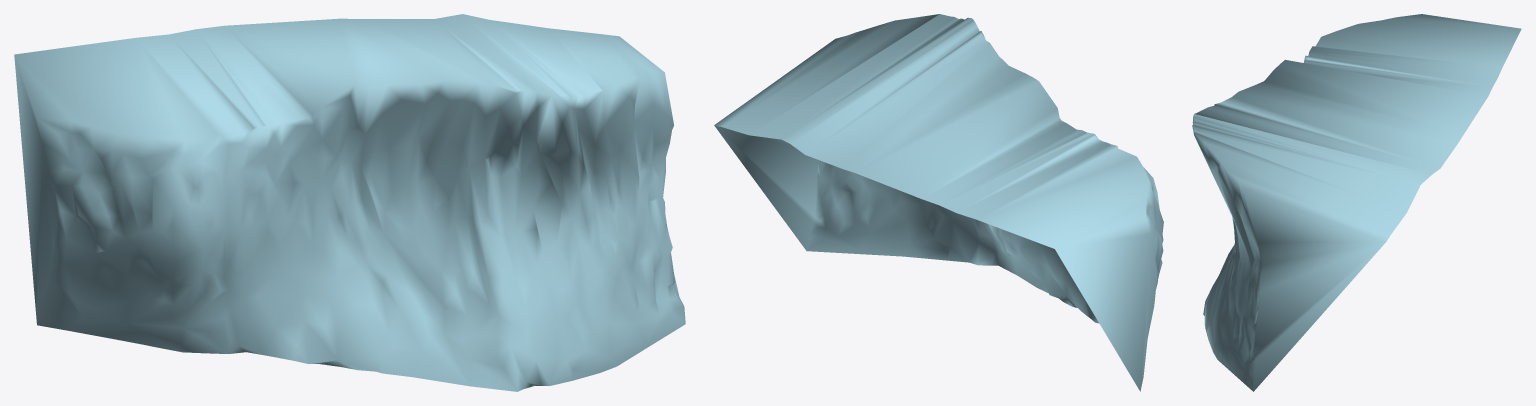
Rendered from Glacier_2.fbx.
3 views of the same model, side by side, from view 1: azimuth 30°, elevation 25°; view 2: azimuth 150°, elevation 25°; view 3: azimuth 270°, elevation 25° (orthographic). The views are drawn at different scales.
Visible parts, largest first — view 1: Glacier 1.015; view 2: Glacier 1.015; view 3: Glacier 1.015.
Boxes of the visible parts, <box> form: Glacier 1.015: <box>14,14,685,391</box>; Glacier 1.015: <box>714,14,1163,391</box>; Glacier 1.015: <box>1192,14,1521,391</box>.
Size of the model in its own units: 11708 by 6096 by 8133.
